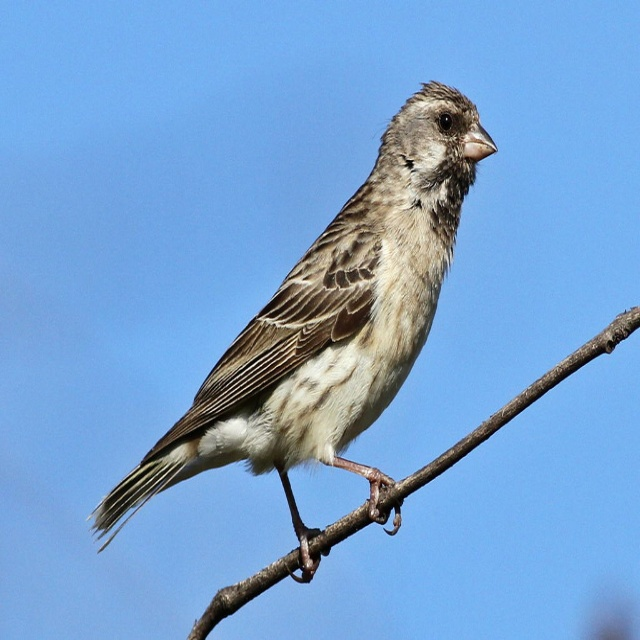Sparrow: (86, 75, 498, 581)
